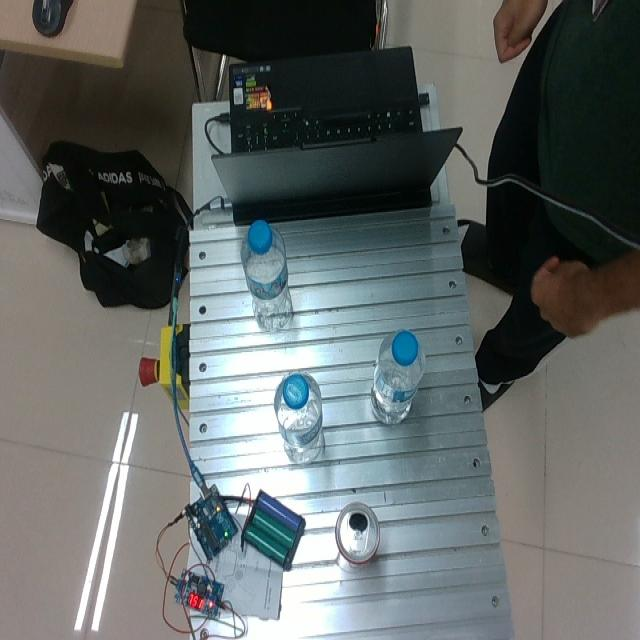coca: (335, 501, 379, 568)
lavie: (241, 220, 293, 333), (370, 329, 424, 424), (274, 370, 323, 462)
